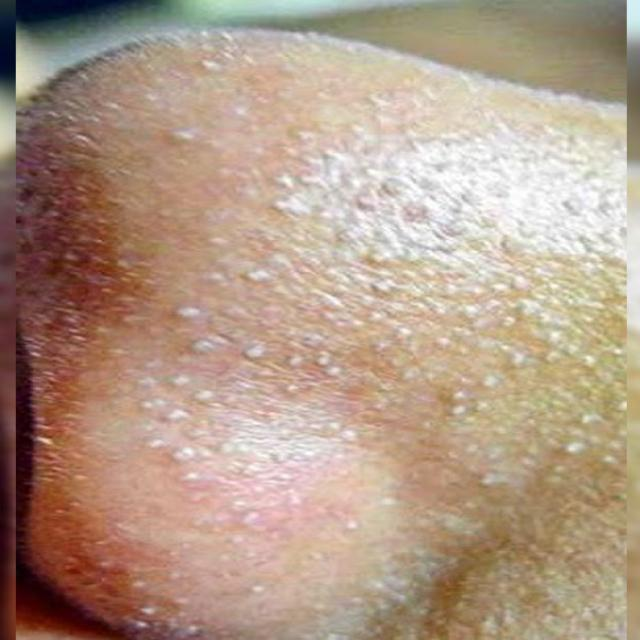whitehead: (69, 87, 617, 450)
